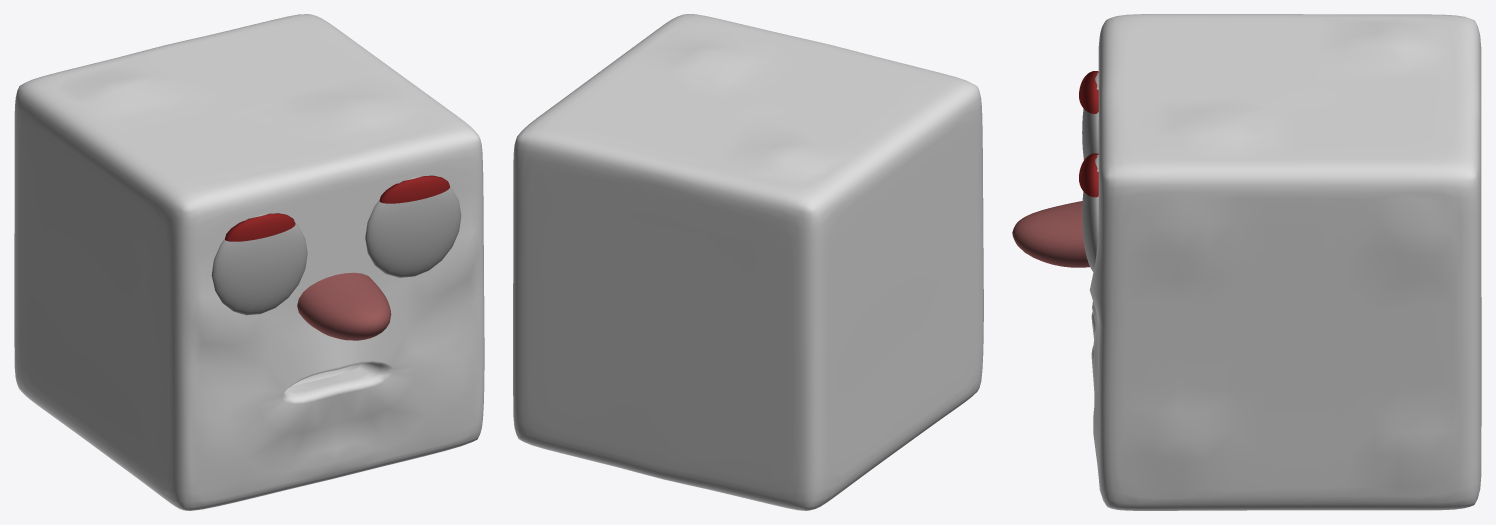
Rendered from faceYell.fbx.
3 views of the same model, side by side, from view 1: azimuth 30°, elevation 25°; view 2: azimuth 150°, elevation 25°; view 3: azimuth 270°, elevation 25° (orthographic). The views are drawn at different scales.
Visible parts, largest first — view 1: face_Yell; view 2: face_Yell; view 3: face_Yell.
Boxes of the visible parts, x1=… form: face_Yell: x1=14, y1=14, x2=484, y2=510; face_Yell: x1=513, y1=14, x2=983, y2=510; face_Yell: x1=1012, y1=14, x2=1481, y2=510.
Bounding box in the file's own units: 105 × 103 × 124.
